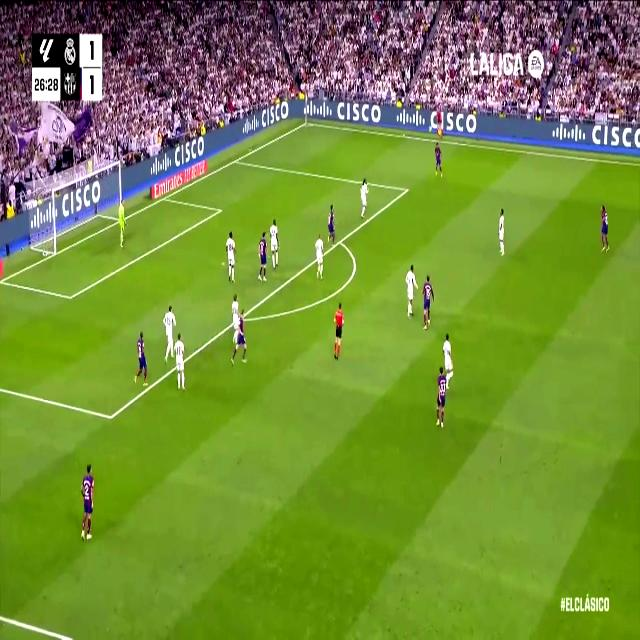bigarea_bottom_inner: (106, 406, 115, 428)
bigarea_top_inner: (404, 183, 409, 197)
bigarea_top_outter: (232, 154, 240, 166)
corner: (304, 120, 310, 126)
smallarea_bottom_outter: (0, 273, 4, 287)
smallarea_top_inner: (217, 204, 222, 215)
top_arc_area_intersection: (336, 232, 344, 249)
